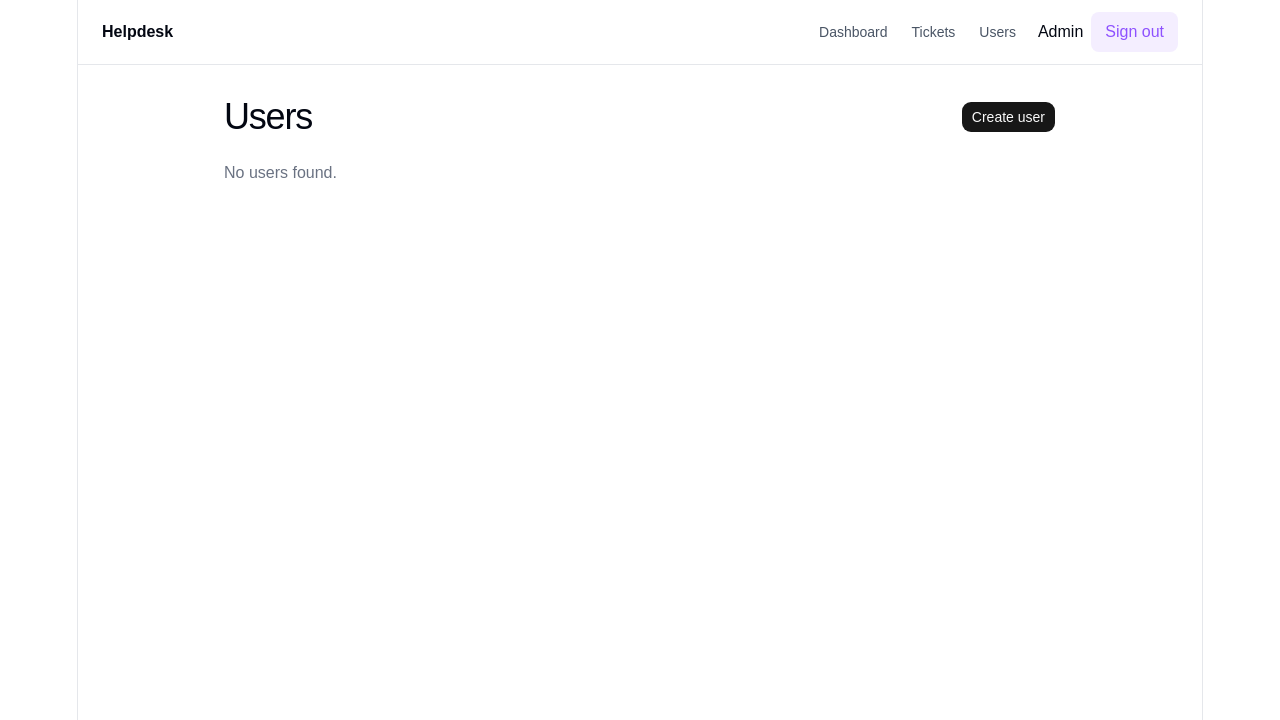
Test: UsersPage › opens the create user modal when the button is clicked
expect the text "No users found." is shown: met, box [224,164,337,181]
Click the button "Create user".
click(1008, 117)  # box [961,101,1056,133]
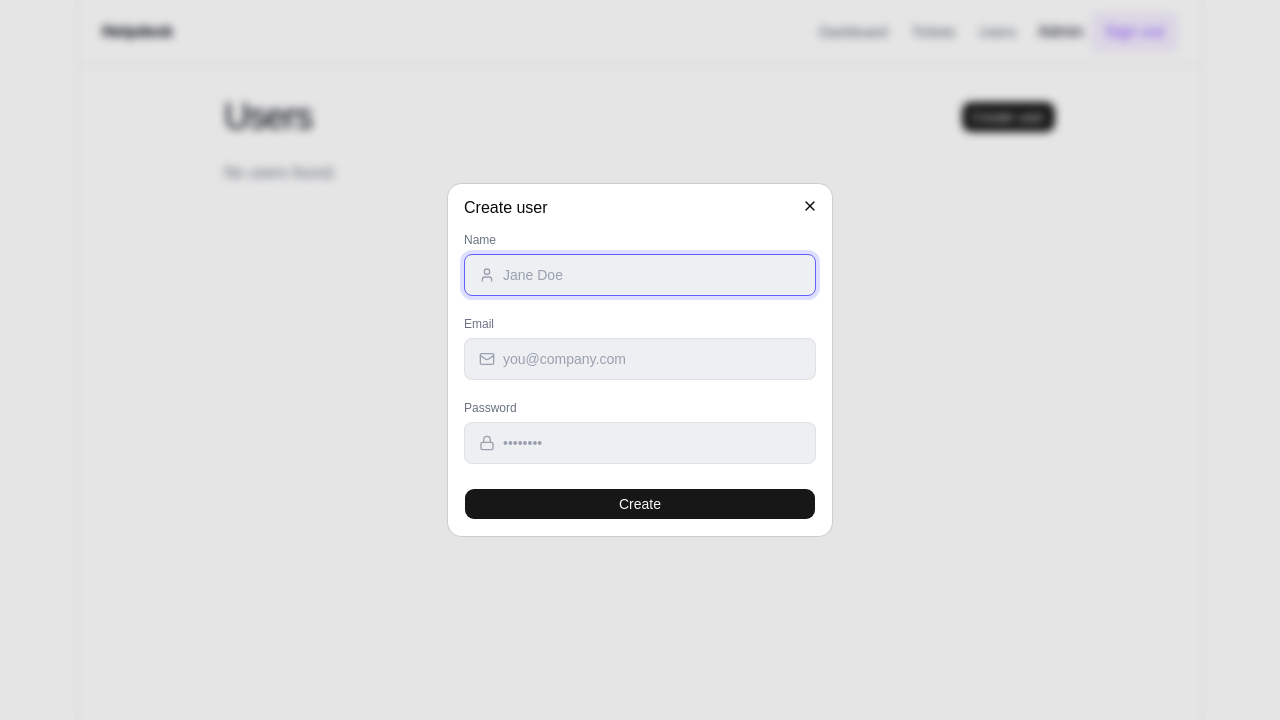
expect the dialog is shown: met, box [448,184,832,536]
expect the heading "Create user" is shown: met, box [464,199,548,216]
